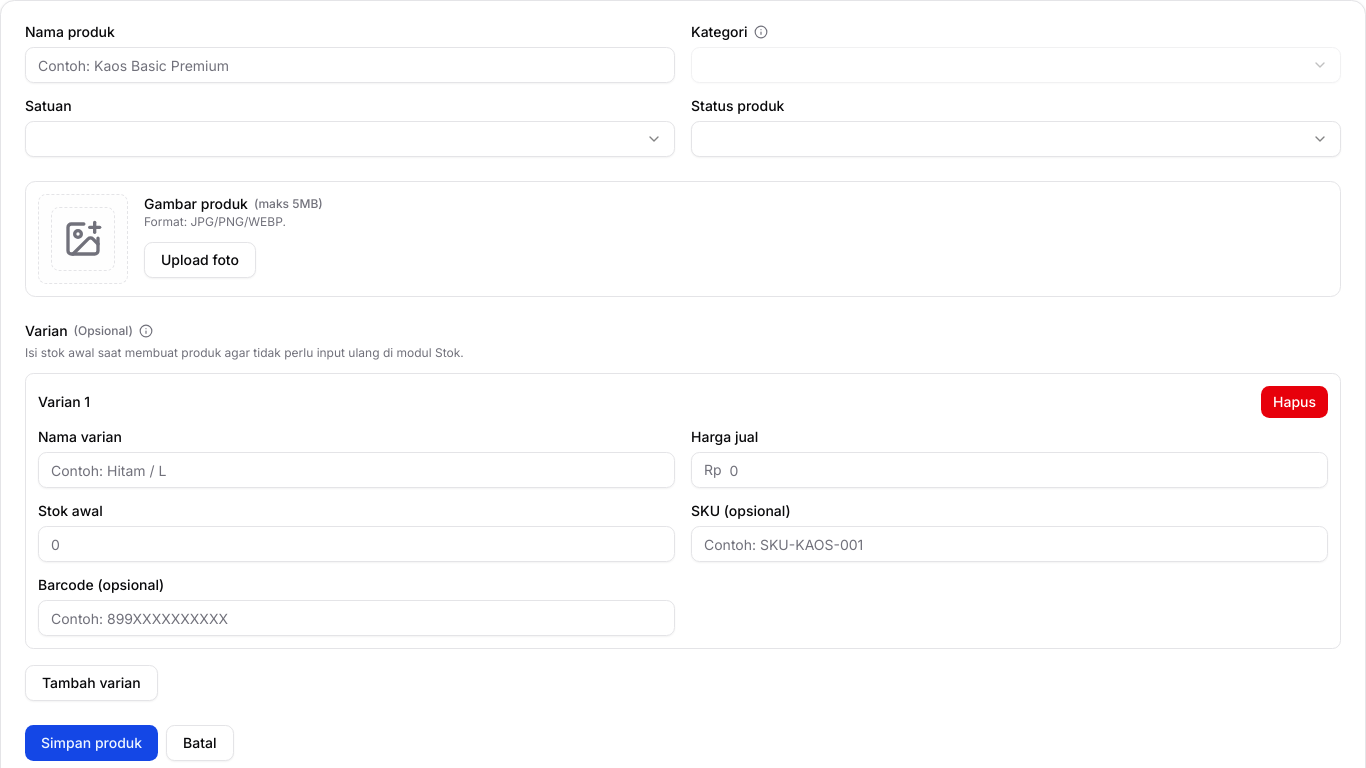
Test: ProductForm › allows adding a new variant row
The image size is (1366, 768).
Click the button "Tambah varian" at (91, 683), box left=25, top=665, right=158, bottom=701
(page scrolled)
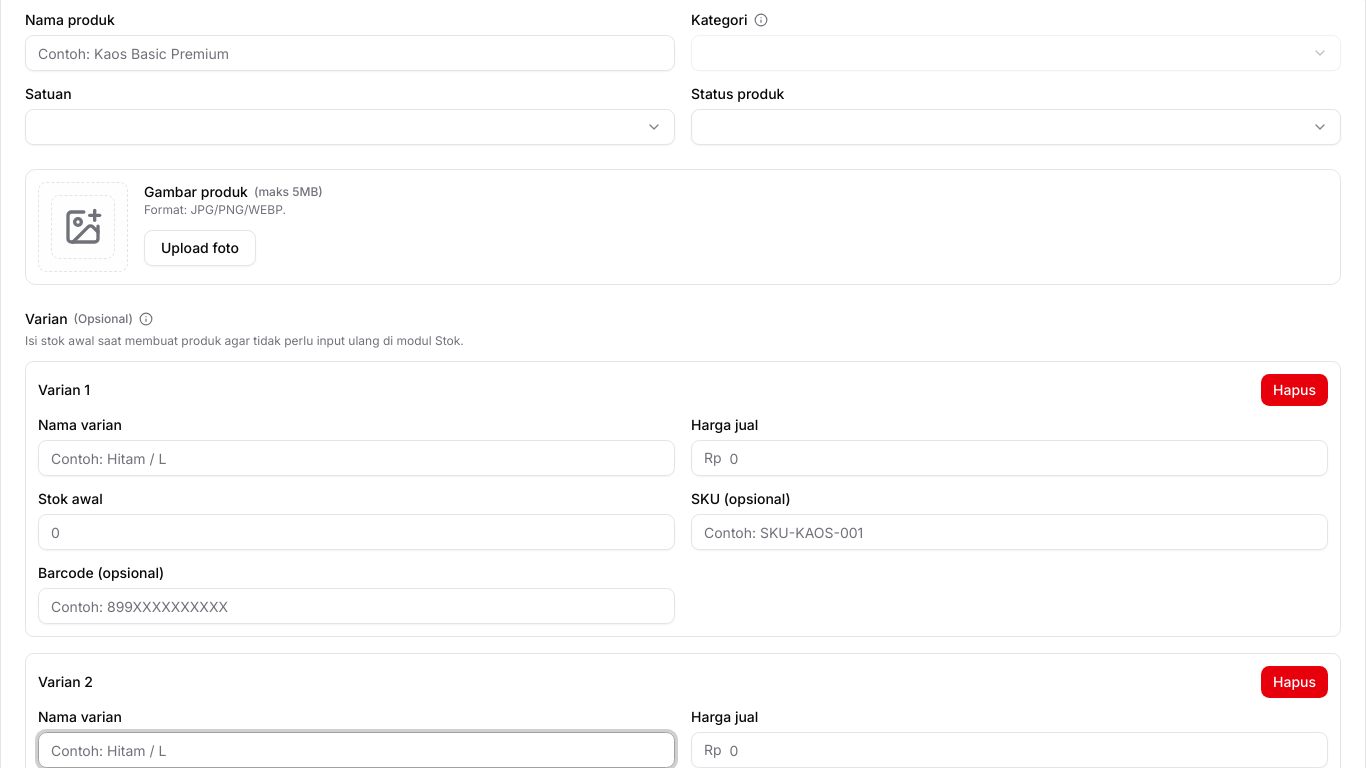
Expected: the text "Varian 2" is shown, left=38, top=672, right=93, bottom=692
